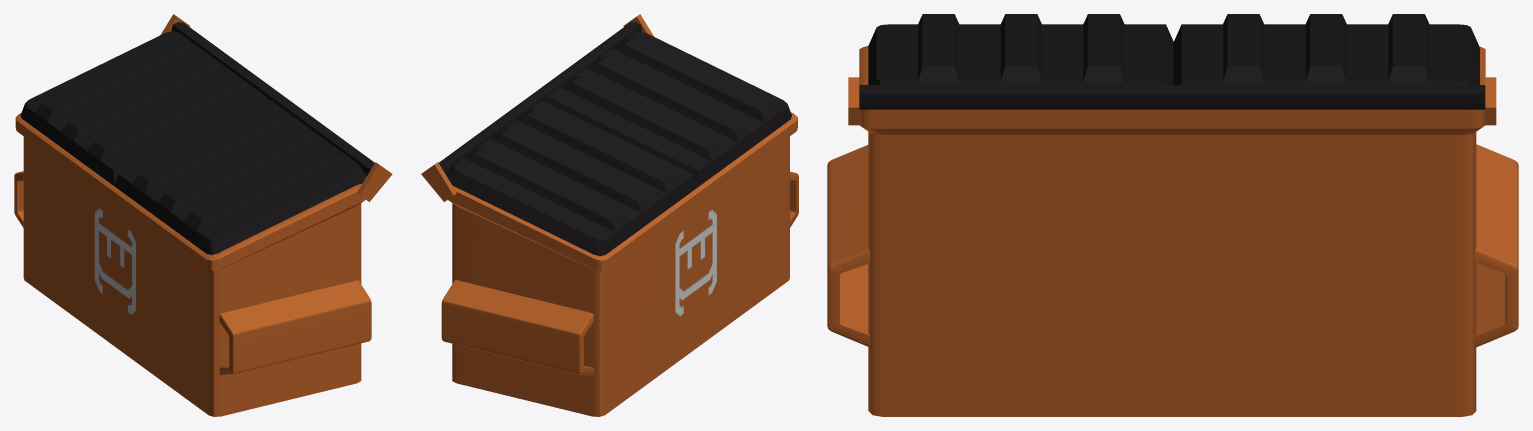
File: scifi dump.glb
3 renders of one model, left to right at view 1: azimuth 30°, elevation 25°; view 2: azimuth 150°, elevation 25°; view 3: azimuth 270°, elevation 25°, orthographic. The views are drawn at different scales.
Parts seen in each view (by area): view 1: SciFi_Dumpster; view 2: SciFi_Dumpster; view 3: SciFi_Dumpster.
Part boxes in pixels (x1,y1,x2,y2): SciFi_Dumpster: [14, 14, 392, 416]; SciFi_Dumpster: [421, 14, 798, 416]; SciFi_Dumpster: [827, 14, 1518, 416].
Bounding box in the file's own units: 1.47 × 1.73 × 3.13.
Materials: 1 (1 with a texture image).
